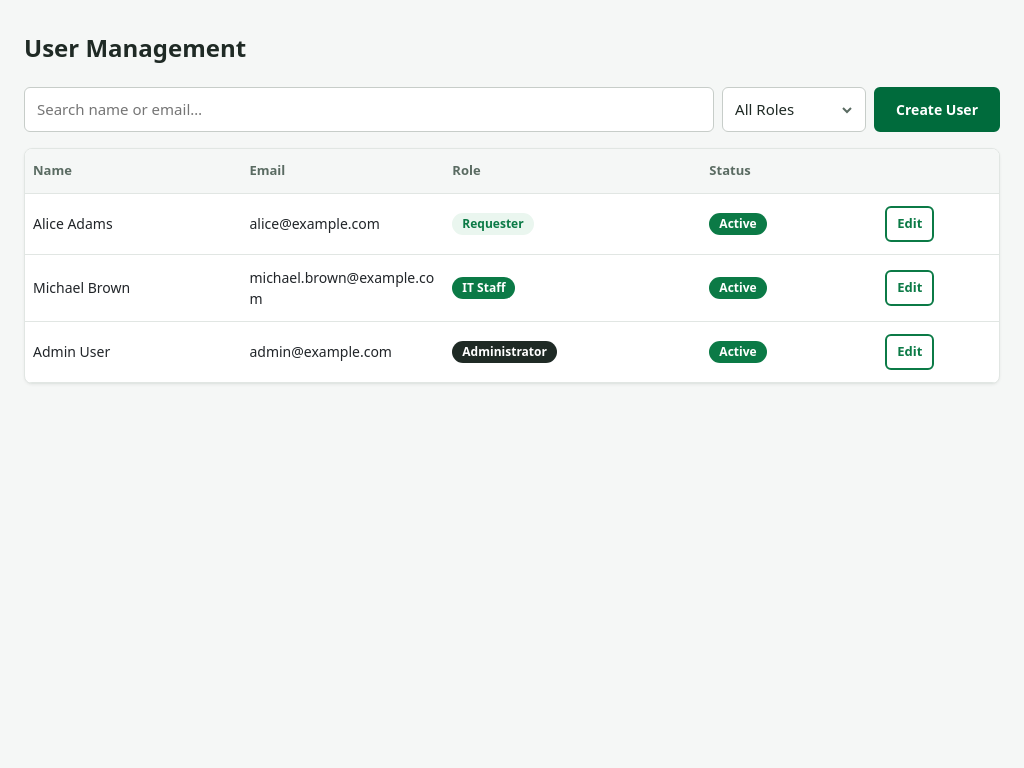
it: UI-24: Set initial password dialog (AC-65) › UI-24: opening Set-new-initial-password, submitting a valid password, shows the forced-change explanation and a success toast
This screenshot has width=1024, height=768.
Check: the element with test id "users-table" is shown, box [24, 148, 1000, 384]
Step 1. Click the button with aria-label "edit alice adams" → [910, 224], box [885, 206, 934, 242]
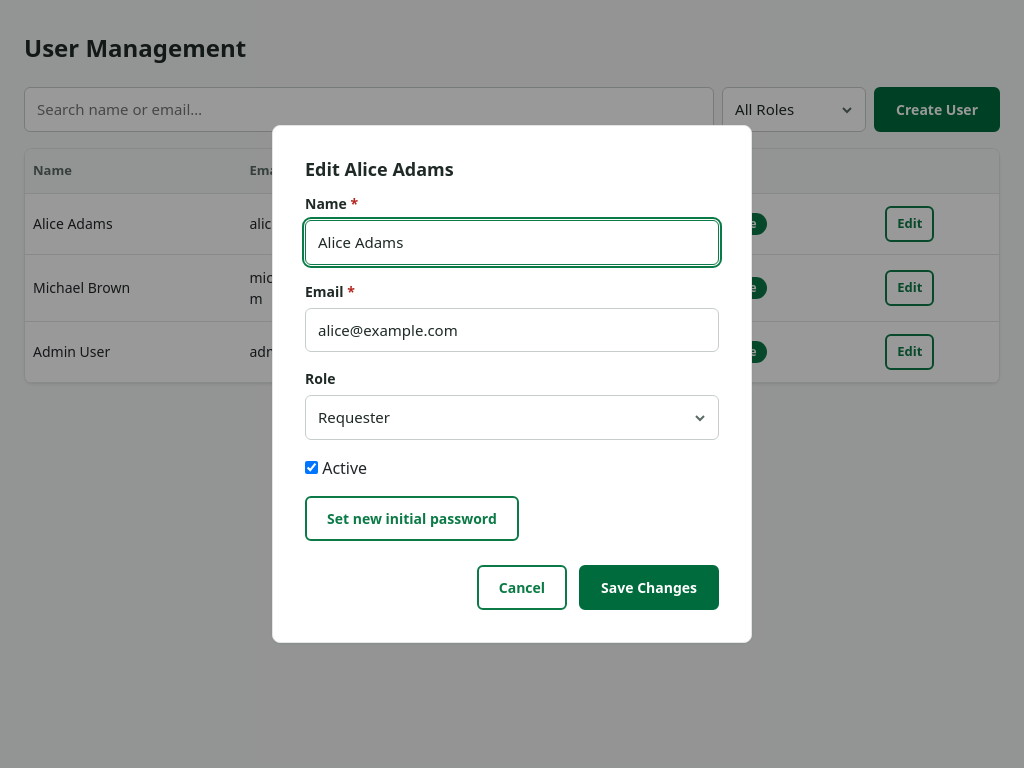
Check: the button "Set new initial password" is shown
Step 2. Click the button "Set new initial password" → [412, 518], box [305, 496, 519, 541]
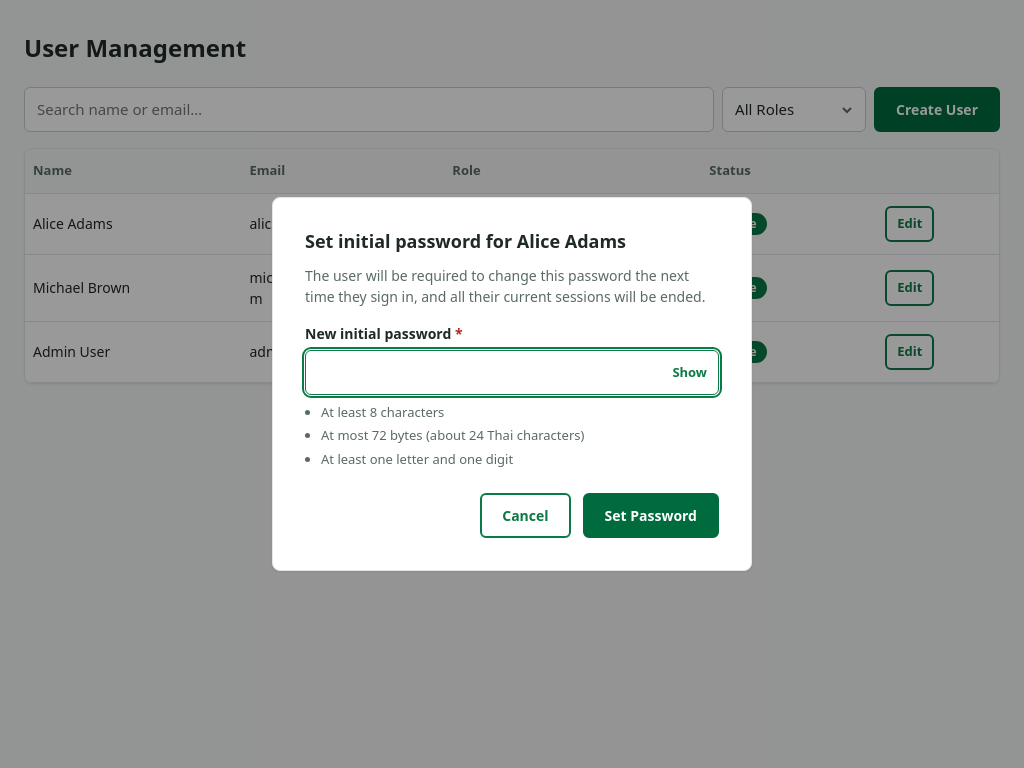
Check: the text "required to change this password" is shown, box [305, 266, 705, 306]
Step 3. Type "BrandNew#99" into the password field labelled "New initial password *" → [512, 372], box [305, 350, 719, 395]
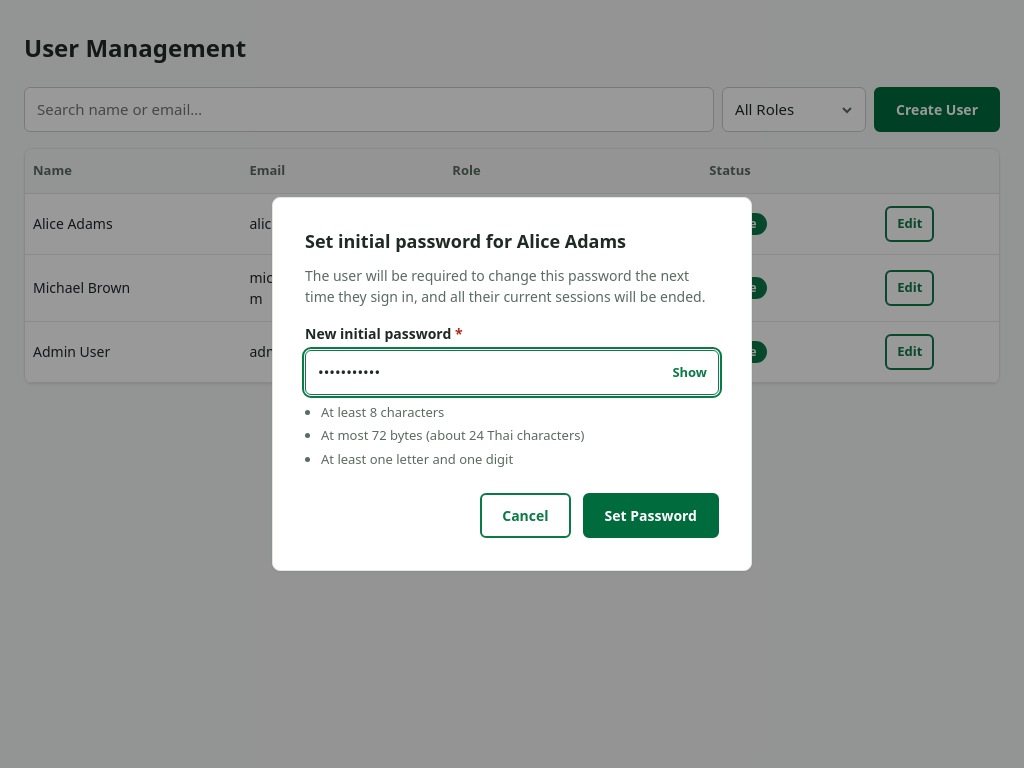
Step 4. Click the button "Set Password" → [651, 516], box [582, 493, 719, 538]
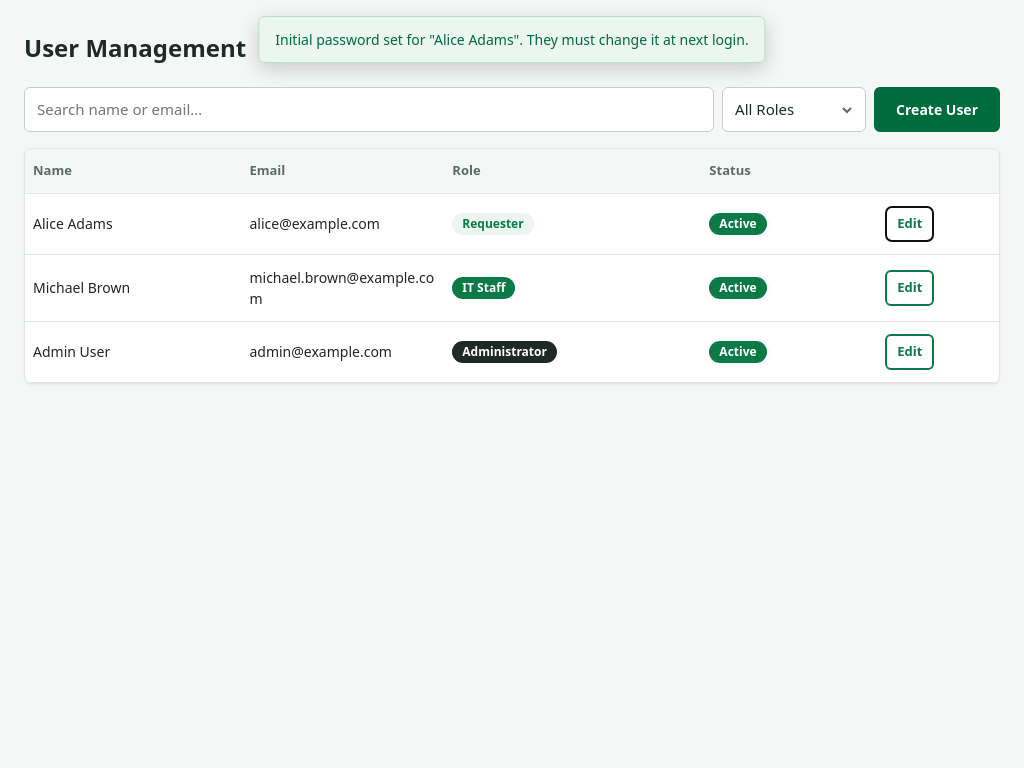
Check: the dialog is gone
Check: the message "Initial password set for \"Alice Adams\". They must change it at next login." is shown, box [258, 16, 766, 63]
Check: the message with test id "toast" shows "must change it at next login", box [275, 30, 749, 49]
